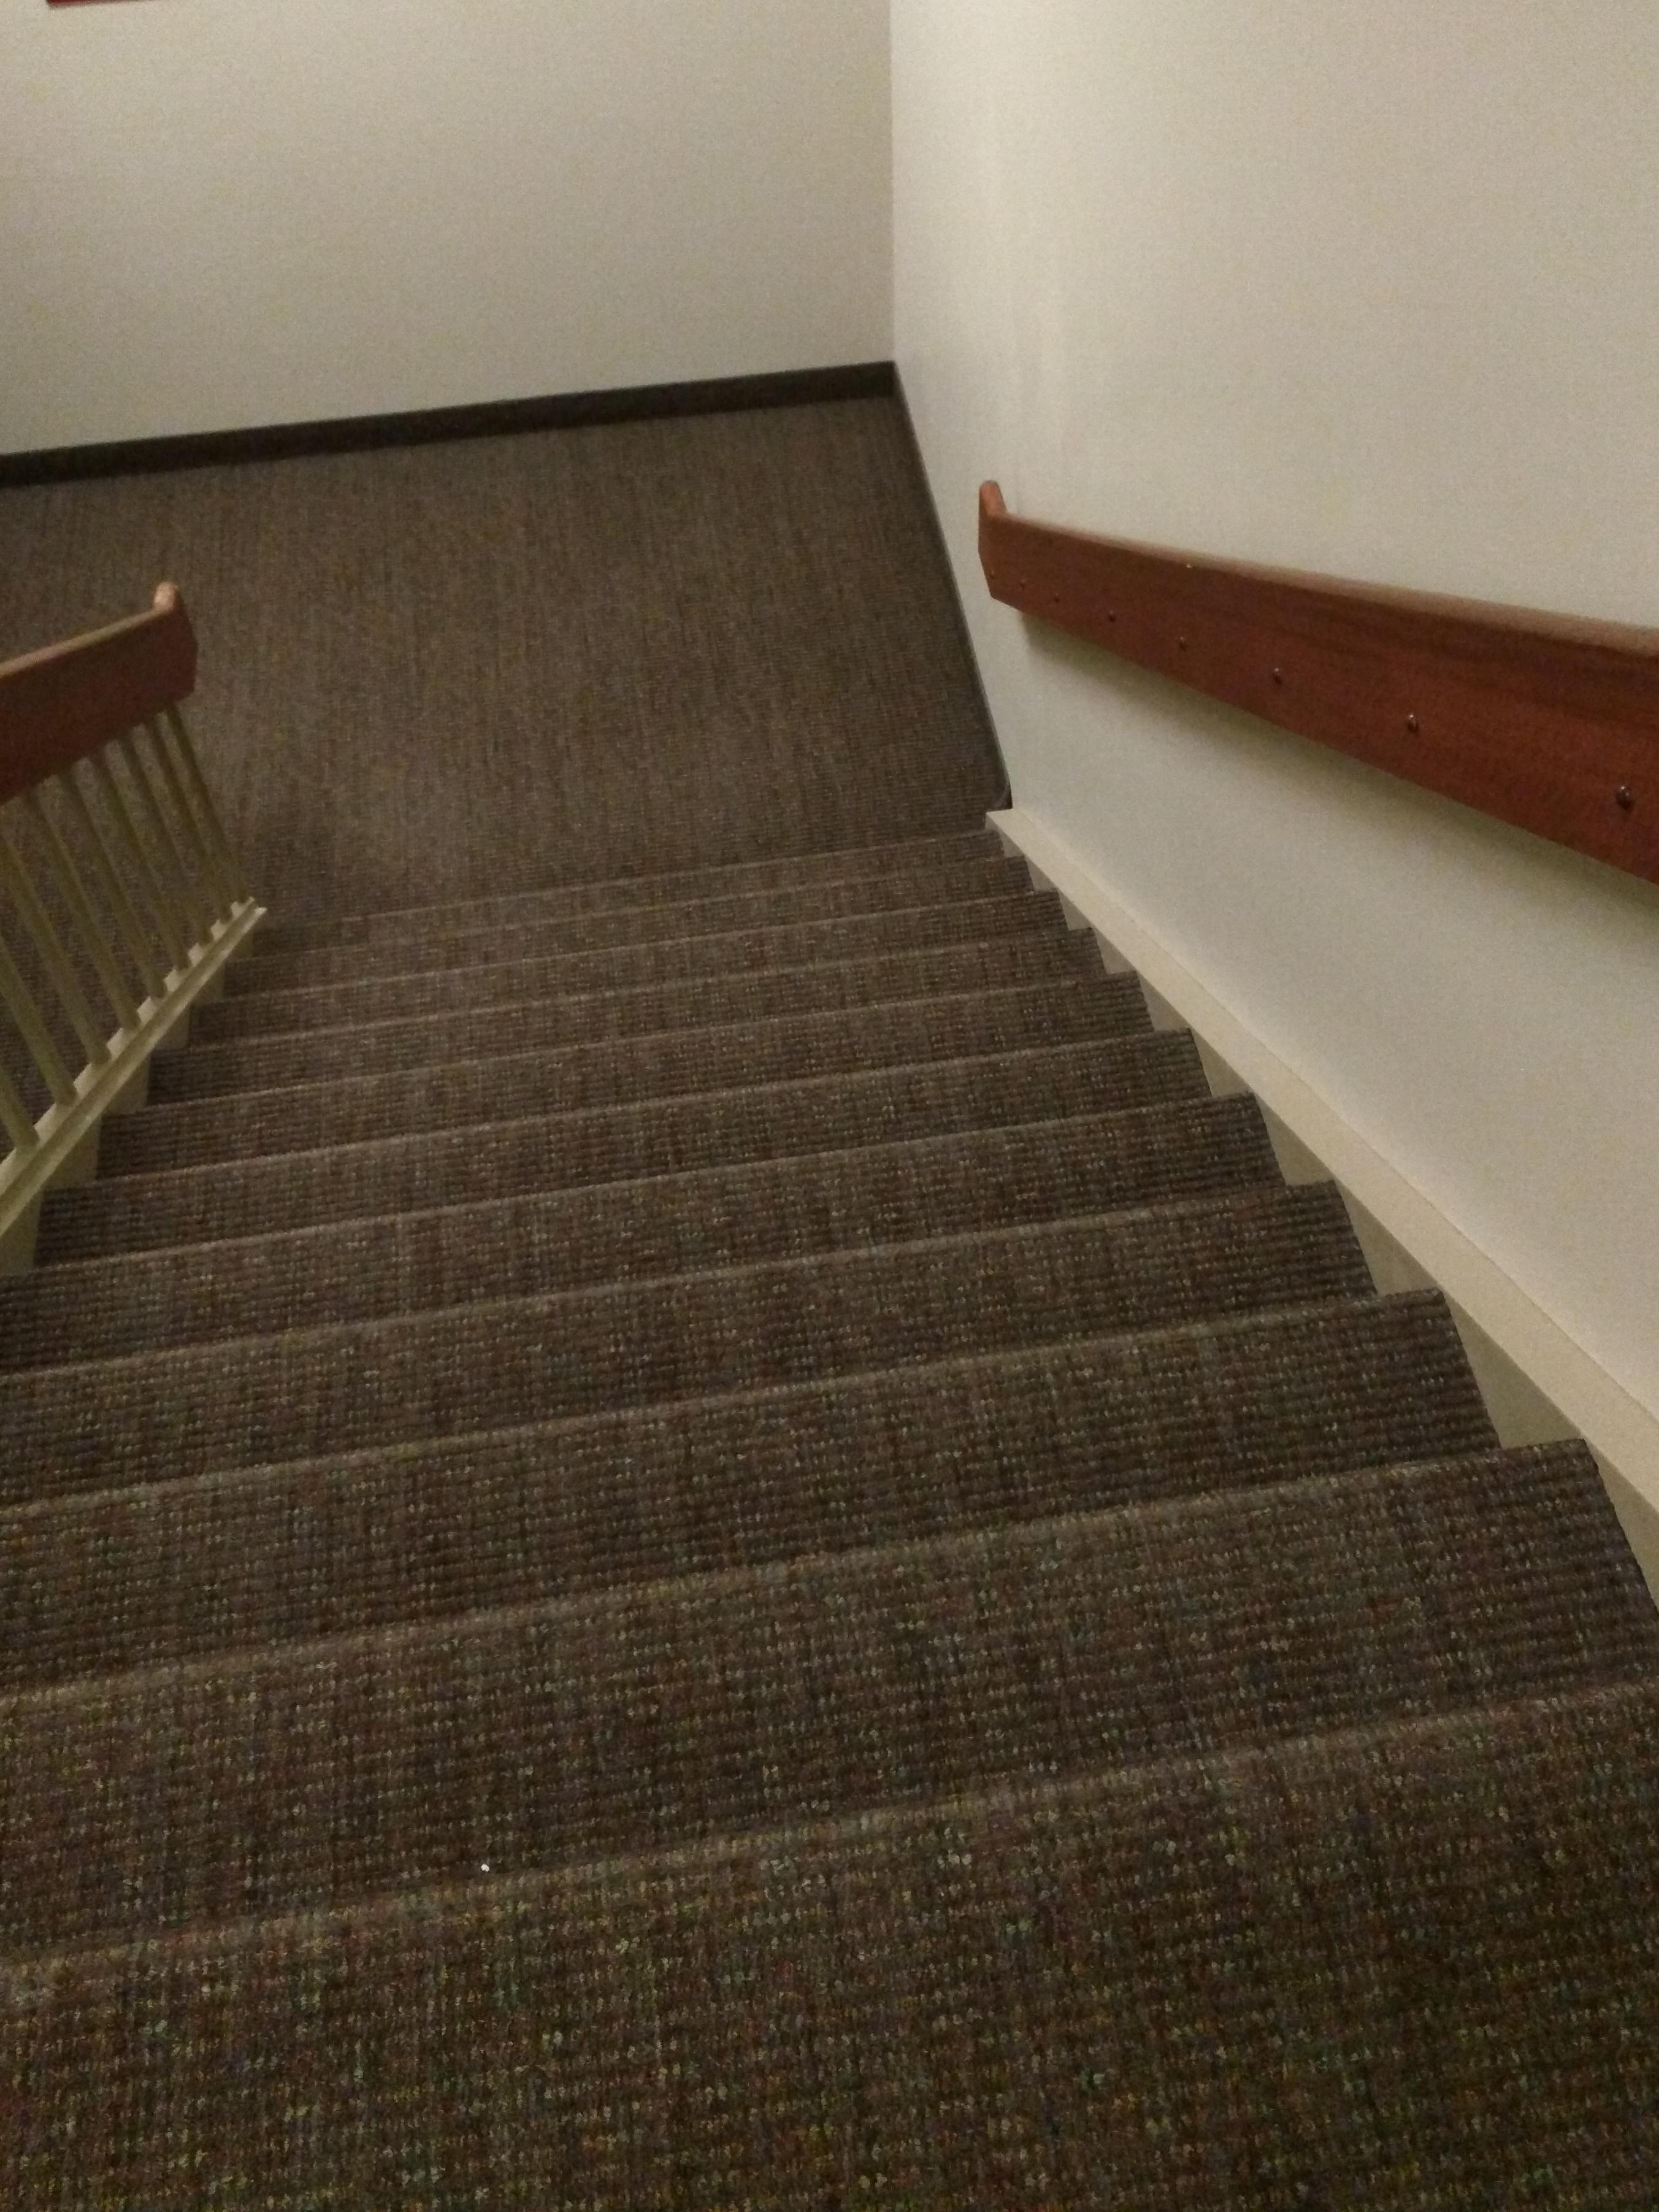stairs_down: (12, 824, 1659, 1978)
